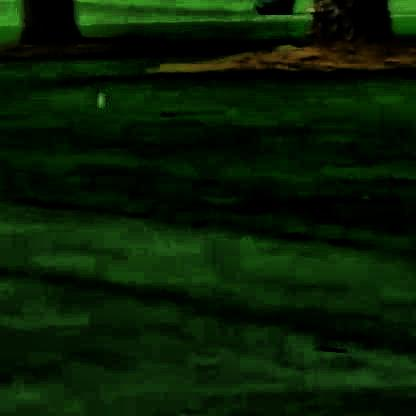golfball: (94, 83, 104, 102)
